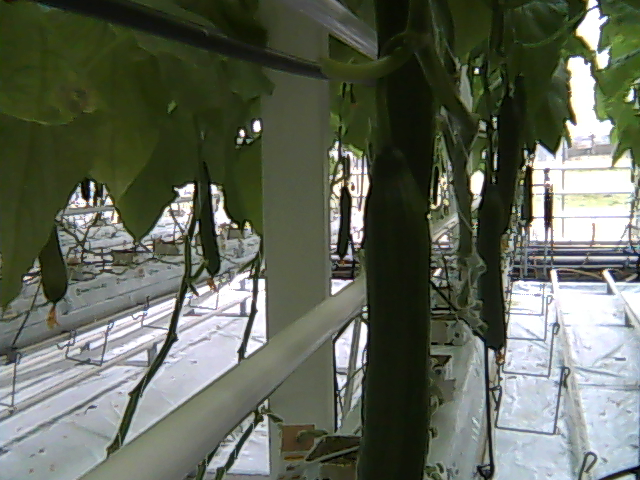concombre: (360, 126, 437, 480), (371, 1, 440, 209), (477, 183, 509, 366)
